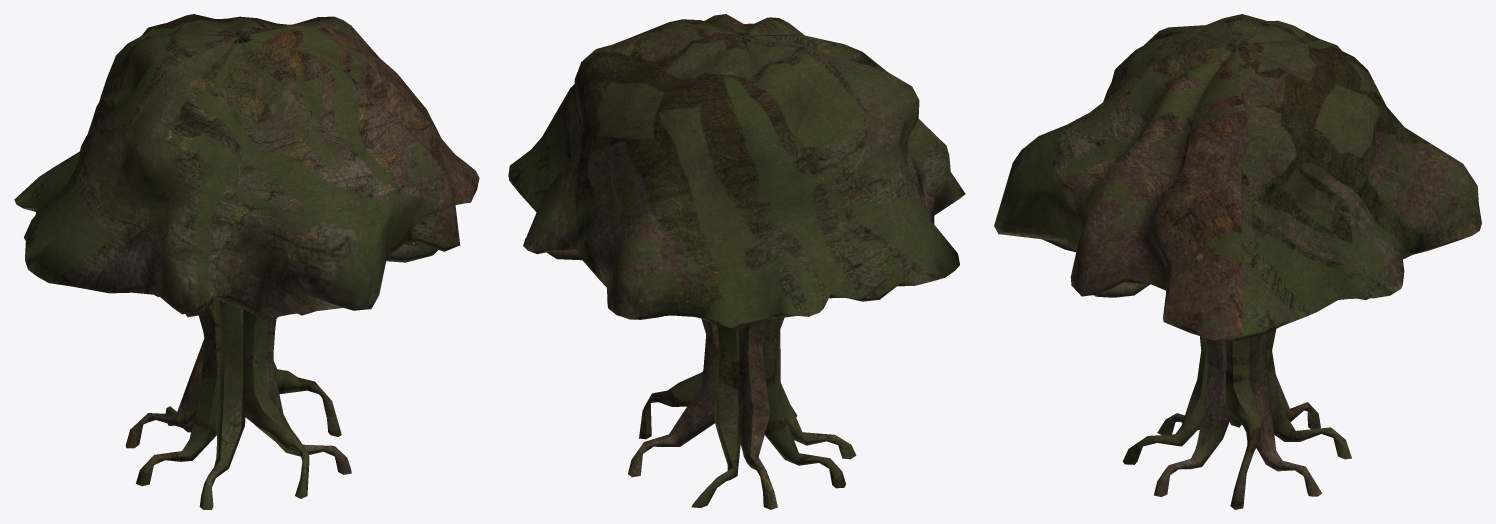
The model's file is Planet_AlienTree.fbx.
3 renders of one model, left to right at view 1: azimuth 30°, elevation 25°; view 2: azimuth 150°, elevation 25°; view 3: azimuth 270°, elevation 25°, orthographic. The views are drawn at different scales.
Parts seen in each view (by area): view 1: Planet_AlienTree; view 2: Planet_AlienTree; view 3: Planet_AlienTree.
Part boxes in pixels (left/top/right/bottom): Planet_AlienTree: left=14, top=14, right=479, bottom=509; Planet_AlienTree: left=508, top=14, right=965, bottom=509; Planet_AlienTree: left=994, top=14, right=1481, bottom=509.
Bounding box in the file's own units: 1.07 × 1 × 1.05.
